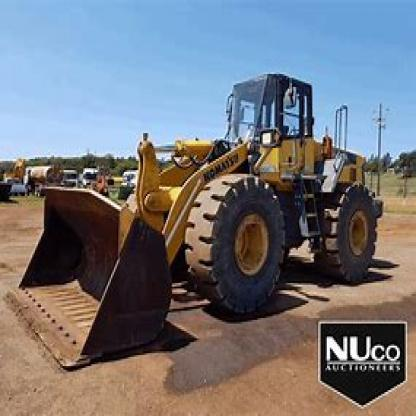bull_dozer/loader/grader: (6, 63, 409, 370)
